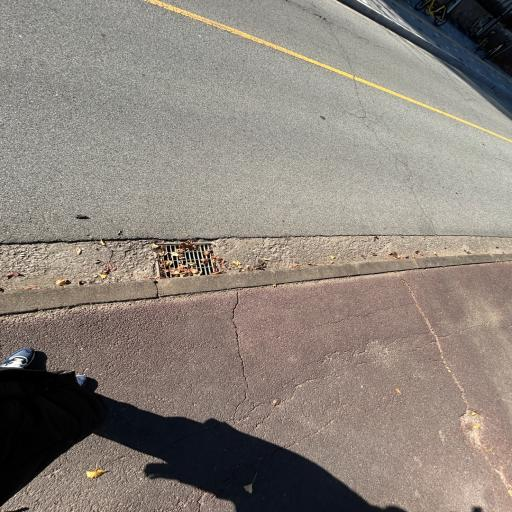debris: (151, 245, 199, 279), (201, 247, 224, 274), (174, 244, 196, 259)
drain: (150, 244, 224, 279)
